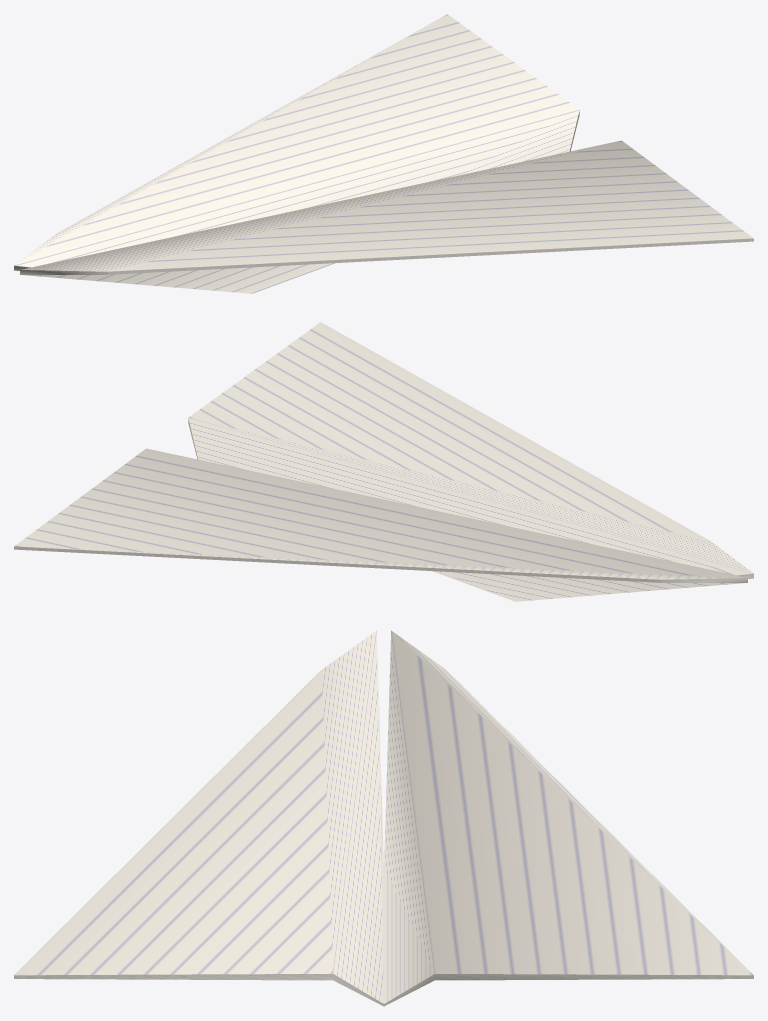
File: y4paperAirplane.fbx
3 renders of one model, top to bottom at view 1: azimuth 30°, elevation 25°; view 2: azimuth 150°, elevation 25°; view 3: azimuth 270°, elevation 25°, orthographic. The views are drawn at different scales.
Parts seen in each view (by area): view 1: Box001; view 2: Box001; view 3: Box001.
Boxes of the visible parts, x1,y1,x2,y2 form: Box001: (14,14,753,293); Box001: (14,322,753,601); Box001: (14,630,753,1006).
Size of the model in its own units: 123 by 16.83 by 111.
1 material, 1 textured.
